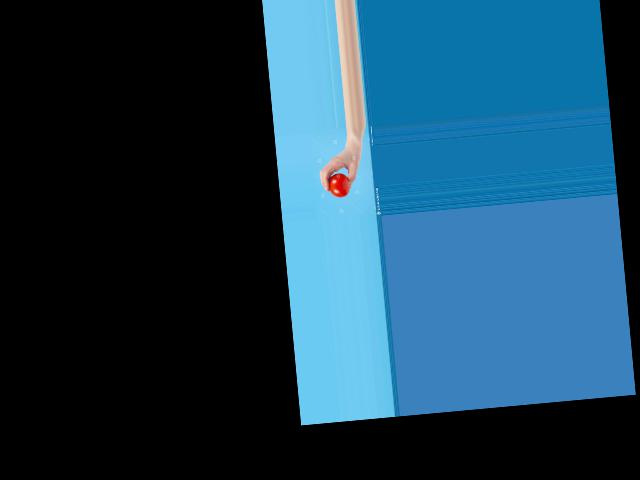tomato: (327, 172, 350, 198)
